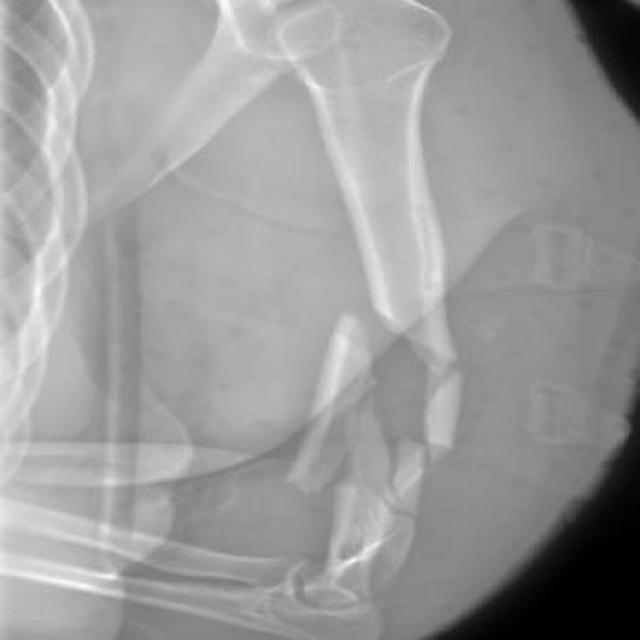Fracture: (312, 288, 485, 520)
